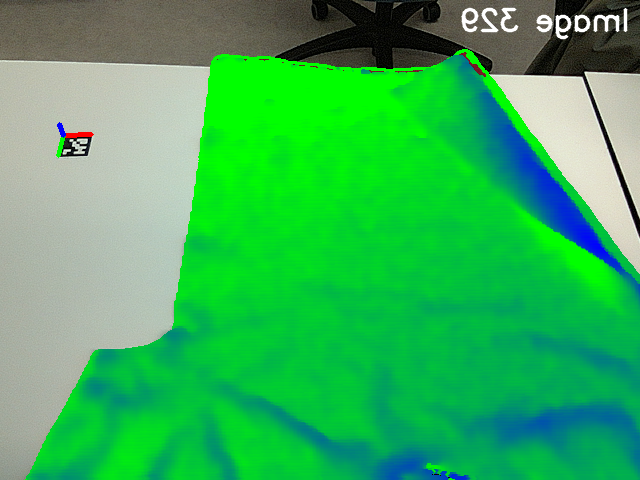V: (384, 77, 425, 113)
